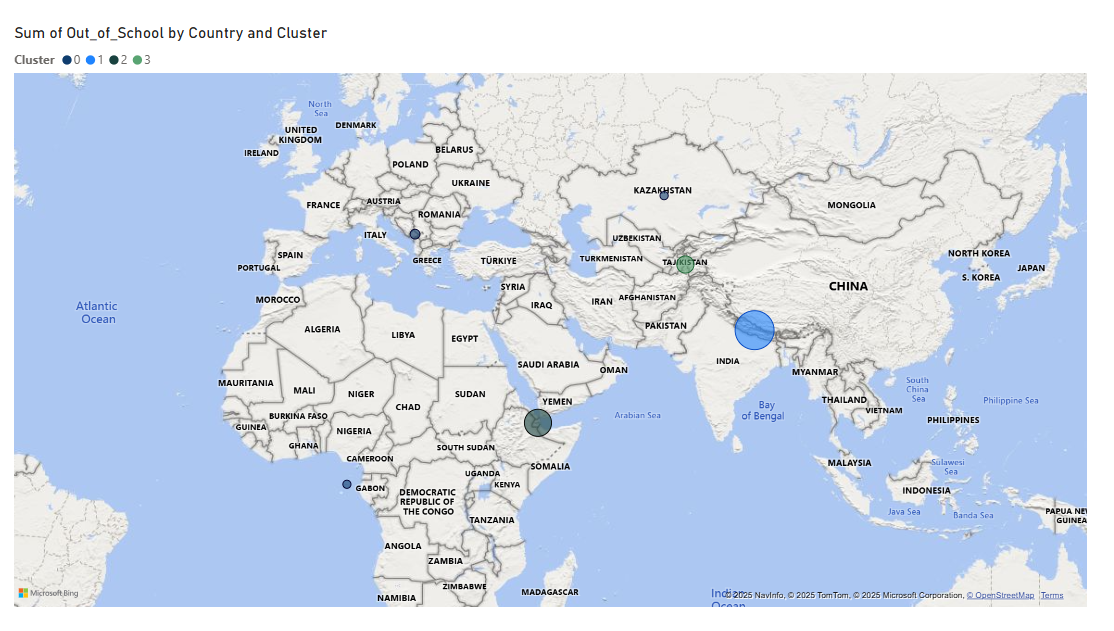

What the dashboard file says about the page in this screenshot:
{"tool":"powerbi","page":{"name":"Page 3","canvas":[1280,720],"ordinal":2},"visuals":[{"type":"map","fields":{"Category":["out_of_school_clusters_2015.Country"],"Size":["Sum(out_of_school_clusters_2015.Out_of_School)"],"Series":["out_of_school_clusters_2015.Cluster"]},"box":[56.7,41.6,1167.9,635],"z":0}]}

Visuals, with their boxes in screenshot pixels (x1, y1, x2, y2), scaled from the page's 1280x720 canvas onto the 1114x631 screenshot:
map - out_of_school_clusters_2015.Country x Sum(out_of_school_clusters_2015.Out_of_School): region(49, 36, 1066, 593)
